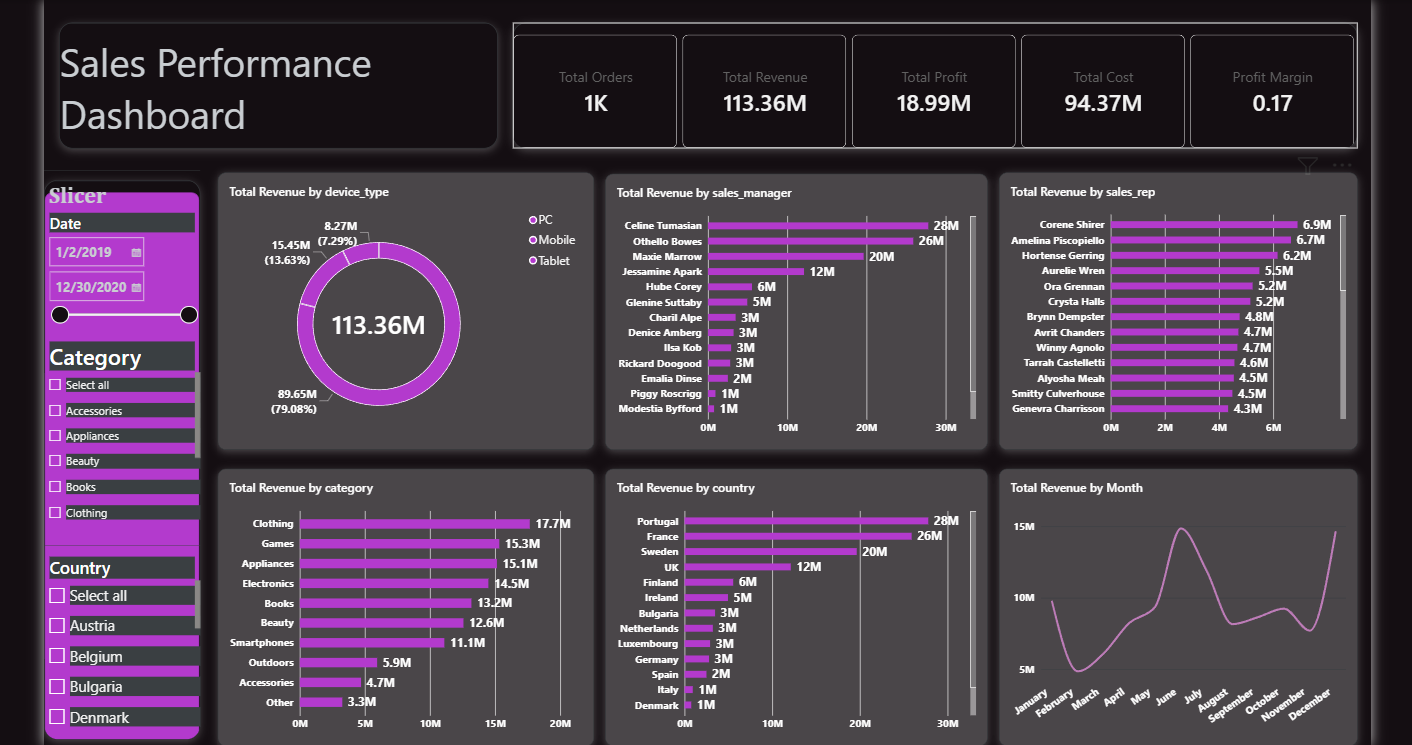

The page's visual inventory and layout, read from the dashboard file:
{"tool":"powerbi","page":{"name":"Page 1","canvas":[1920,1080],"ordinal":0},"visuals":[{"type":"cardVisual","fields":{"Data":["Measures_.Total Orders","Measures_.Total Revenue","Measures_.Total Profit","Measures_.Total Cost","Measures_.Profit Margin"]},"box":[678.6,32.6,1223.3,182.8],"z":0},{"type":"group","id":"g1","title":"Group 2","box":[0,246.3,226.2,825.7],"z":0,"group":"g2"},{"type":"group","id":"g2","title":"Group 3","box":[0,246.3,226.2,825.7],"z":0,"group":"g4"},{"type":"group","id":"g3","title":"Group 1","box":[0,246.3,226.2,825.7],"z":0,"group":"g1"},{"type":"shape","box":[0,261.3,226.2,810.7],"z":0,"group":"g3"},{"type":"textbox","box":[0,246.3,226.2,57.9],"z":1000,"group":"g3"},{"type":"slicer","fields":{"Values":["Sales Data.date"]},"box":[0,308.1,226.2,170.1],"z":1000,"group":"g1"},{"type":"slicer","fields":{"Values":["Sales Data.category"]},"box":[0,494.5,226.2,269.6],"z":1000,"group":"g2"},{"type":"lineChart","fields":{"Category":["Sales Data.date.Variation.Date Hierarchy.Month"],"Y":["Measures_.Total Revenue"]},"box":[1382.6,678.6,519.4,401.7],"z":1000},{"type":"slicer","fields":{"Values":["Sales Data.country"]},"box":[0,789,226.2,273.3],"z":1000,"group":"g4"},{"type":"clusteredBarChart","fields":{"Category":["Sales Data.country"],"Y":["Measures_.Total Revenue"]},"box":[812.5,678.3,553.8,401.7],"z":2000},{"type":"clusteredBarChart","fields":{"Category":["Sales Data.category"],"Y":["Measures_.Total Revenue"]},"box":[251.5,678.3,544.7,401.7],"z":3000},{"type":"donutChart","fields":{"Category":["Sales Data.device_type"],"Y":["Measures_.Total Revenue"]},"box":[251.5,250,544.7,401.7],"z":4000},{"type":"clusteredBarChart","fields":{"Category":["Sales Data.sales_manager"],"Y":["Measures_.Total Revenue"]},"box":[812.5,250.9,553.8,399.9],"z":5000},{"type":"clusteredBarChart","fields":{"Category":["Sales Data.sales_rep"],"Y":["Measures_.Total Revenue"]},"box":[1382.6,249.7,519.4,401.7],"z":6000},{"type":"group","id":"g4","title":"Group 4","box":[0,246.3,226.2,825.7],"z":7000},{"type":"textbox","box":[21.7,32.6,635.2,182.8],"z":8000}]}

Visuals, with their boxes on the page's 1920x1080 design canvas (x1, y1, x2, y2). These are canvas units, not pixel positions in the 1412x745 screenshot, which may show the page scaled, cropped or inside an application window:
cardVisual - Measures_.Total Orders x Measures_.Total Revenue: BBox(679, 33, 1902, 215)
"Group 2" group: BBox(0, 246, 226, 1072)
"Group 3" group: BBox(0, 246, 226, 1072)
"Group 1" group: BBox(0, 246, 226, 1072)
shape: BBox(0, 261, 226, 1072)
textbox: BBox(0, 246, 226, 304)
slicer - Sales Data.date: BBox(0, 308, 226, 478)
slicer - Sales Data.category: BBox(0, 494, 226, 764)
lineChart - Sales Data.date.Variation.Date Hierarchy.Month x Measures_.Total Revenue: BBox(1383, 679, 1902, 1080)
slicer - Sales Data.country: BBox(0, 789, 226, 1062)
clusteredBarChart - Sales Data.country x Measures_.Total Revenue: BBox(812, 678, 1366, 1080)
clusteredBarChart - Sales Data.category x Measures_.Total Revenue: BBox(252, 678, 796, 1080)
donutChart - Sales Data.device_type x Measures_.Total Revenue: BBox(252, 250, 796, 652)
clusteredBarChart - Sales Data.sales_manager x Measures_.Total Revenue: BBox(812, 251, 1366, 651)
clusteredBarChart - Sales Data.sales_rep x Measures_.Total Revenue: BBox(1383, 250, 1902, 651)
"Group 4" group: BBox(0, 246, 226, 1072)
textbox: BBox(22, 33, 657, 215)
